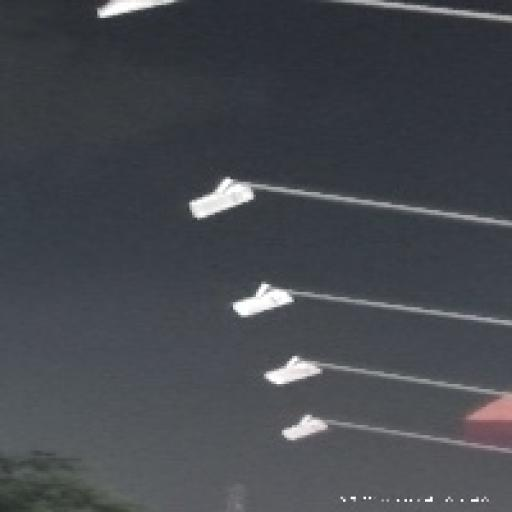Not Working: (182, 173, 268, 231), (225, 278, 303, 333), (253, 349, 324, 393), (274, 407, 334, 447)
